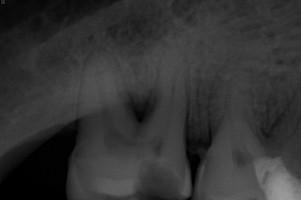Endo-Periodontal Lesion: (126, 90, 154, 120)
